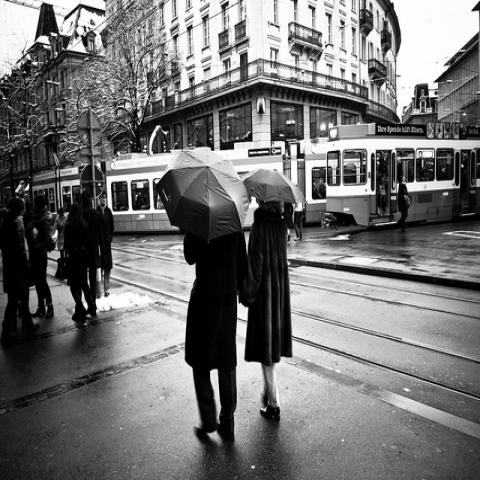bus: (327, 138, 479, 232), (102, 154, 182, 242)
